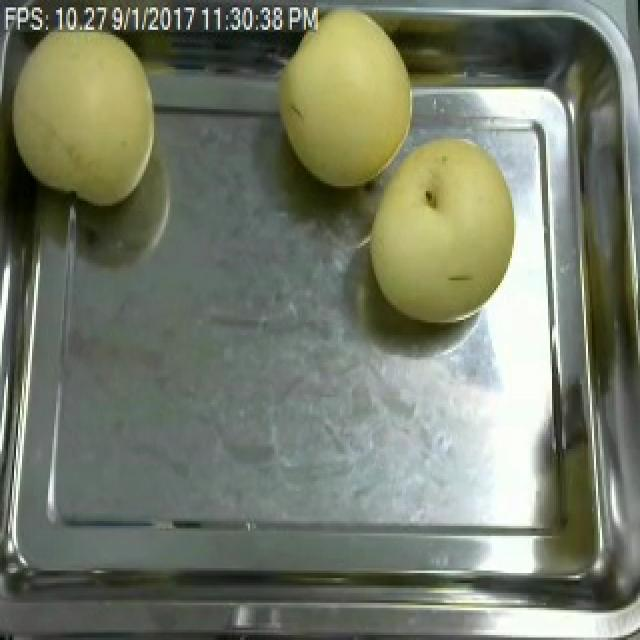Fruit: (356, 126, 524, 332), (0, 7, 166, 211), (266, 5, 424, 196)
